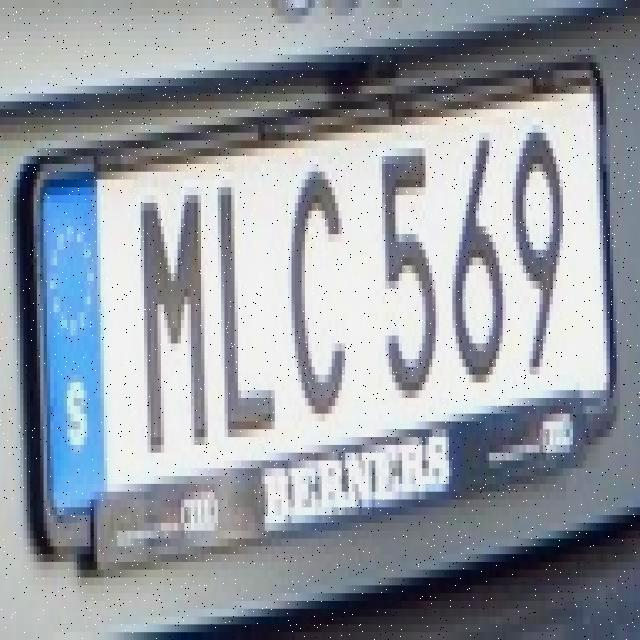licenseplate: (14, 34, 626, 604)
